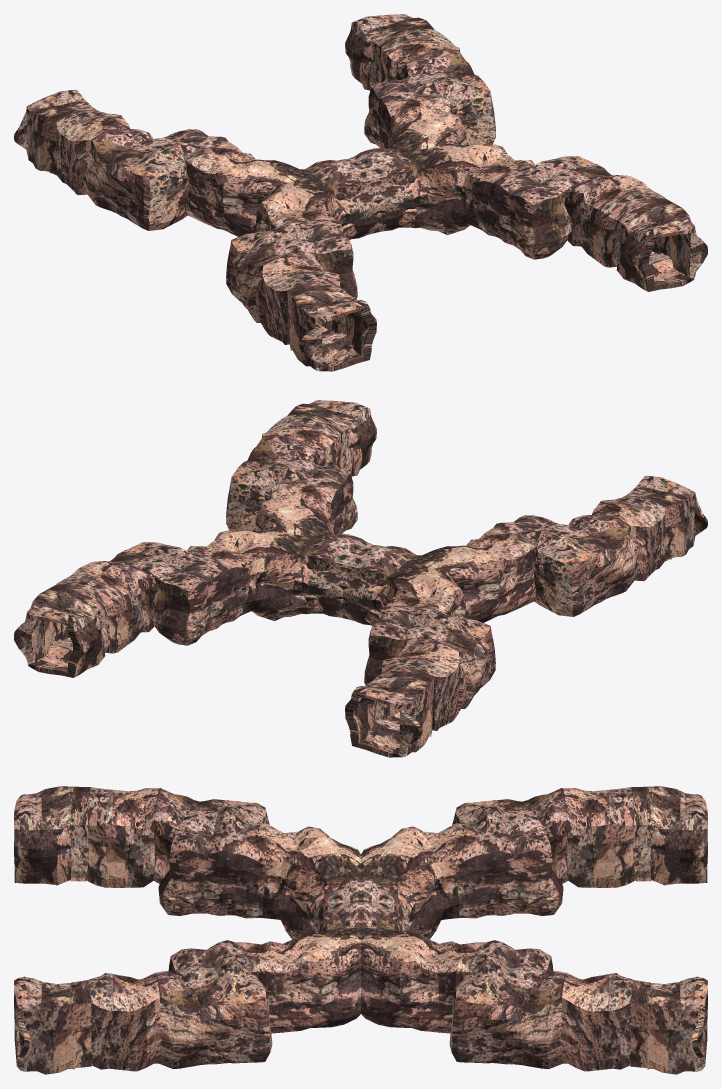
File: Cave System.fbx
3 views of the same model, one above another, from view 1: azimuth 30°, elevation 25°; view 2: azimuth 150°, elevation 25°; view 3: azimuth 270°, elevation 25° (orthographic). The views are drawn at different scales.
Parts seen in each view (by area): view 1: Cube.001; view 2: Cube.001; view 3: Cube.001.
Part boxes in pixels (x1,y1,x2,y2): Cube.001: [14, 14, 707, 371]; Cube.001: [14, 400, 707, 757]; Cube.001: [14, 786, 707, 1074].
Size of the model in its own units: 34902 by 6341 by 44003.
